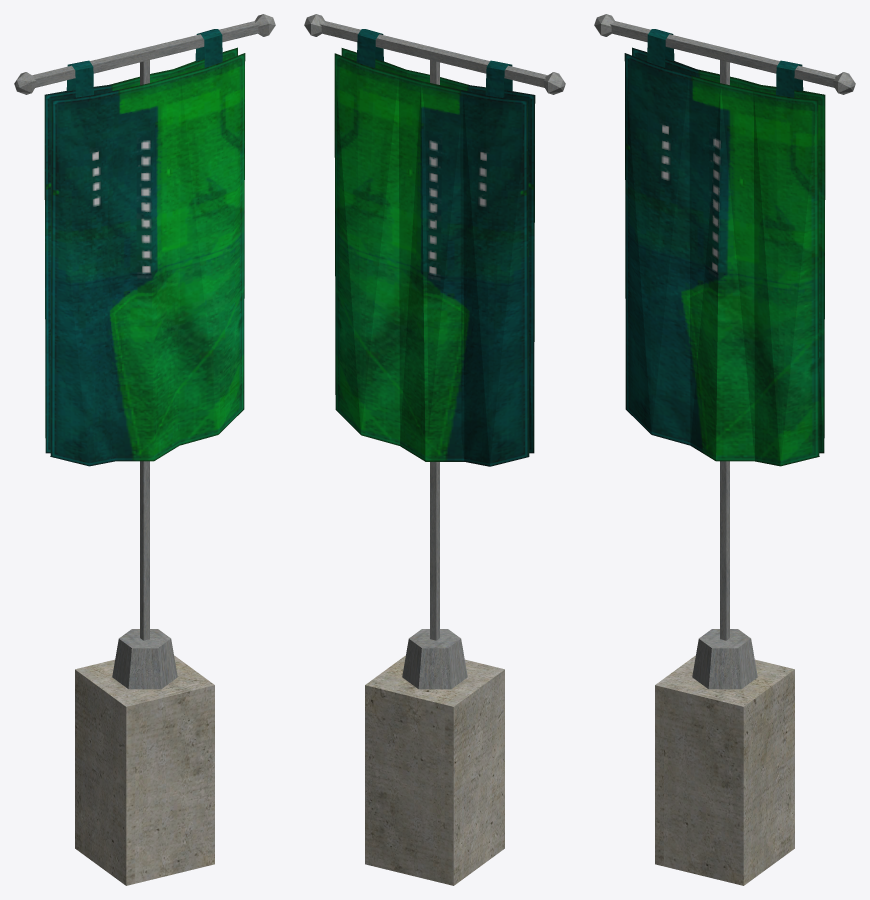
Rendered from thm_all_banner_generic_s01_l1.fbx.
3 views of the same model, side by side, from view 1: azimuth 30°, elevation 25°; view 2: azimuth 150°, elevation 25°; view 3: azimuth 330°, elevation 25° (orthographic).
Parts seen in each view (by area): view 1: mesh_node; view 2: mesh_node; view 3: mesh_node.
Part boxes in pixels (<box>): mesh_node: <box>14,14,275,885</box>; mesh_node: <box>304,14,565,885</box>; mesh_node: <box>594,14,855,885</box>.
Size of the model in its own units: 2.19 by 6.56 by 0.75.
